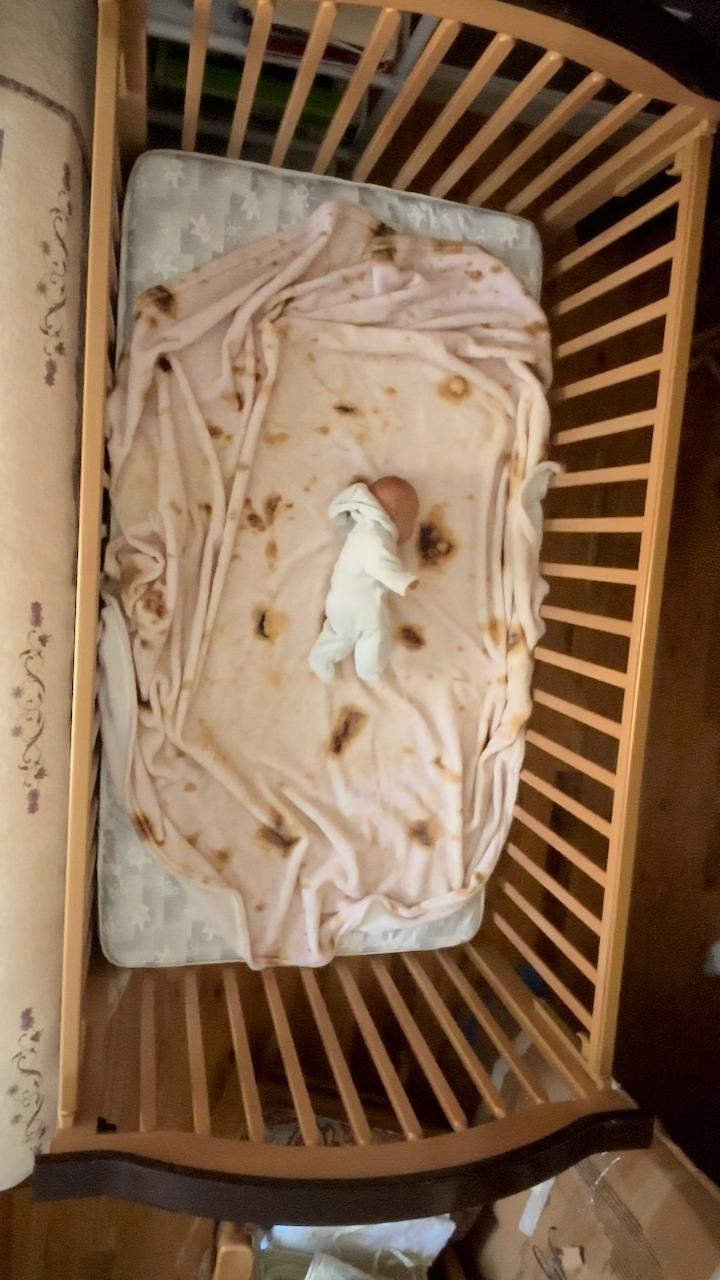baby: (302, 468, 432, 683)
